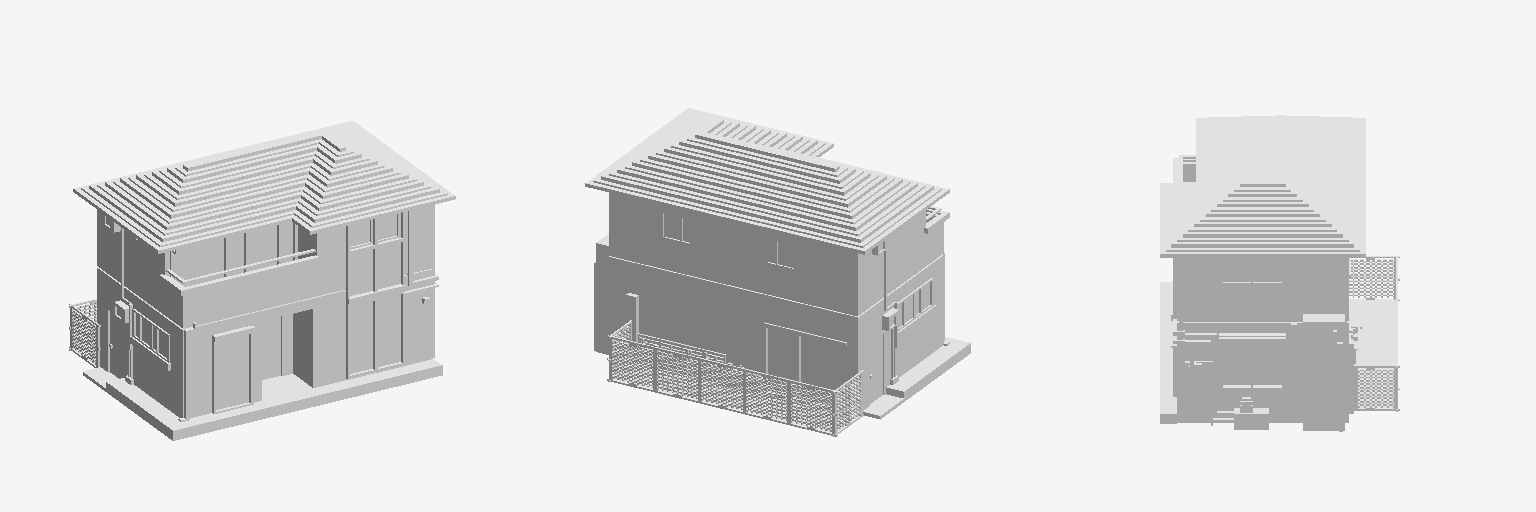
The model's file is GDS2_Build2-1.obj.
3 renders of one model, left to right at view 1: azimuth 30°, elevation 25°; view 2: azimuth 150°, elevation 25°; view 3: azimuth 270°, elevation 25°, orthographic.
Visible parts, largest first — view 1: object 1; view 2: object 1; view 3: object 1.
Boxes of the visible parts, box(x1,y1,x2,y2) form: object 1: box(69, 121, 455, 440); object 1: box(585, 108, 970, 436); object 1: box(1160, 115, 1399, 431).
Bounding box in the file's own units: 17.3 × 12.3 × 12.6.